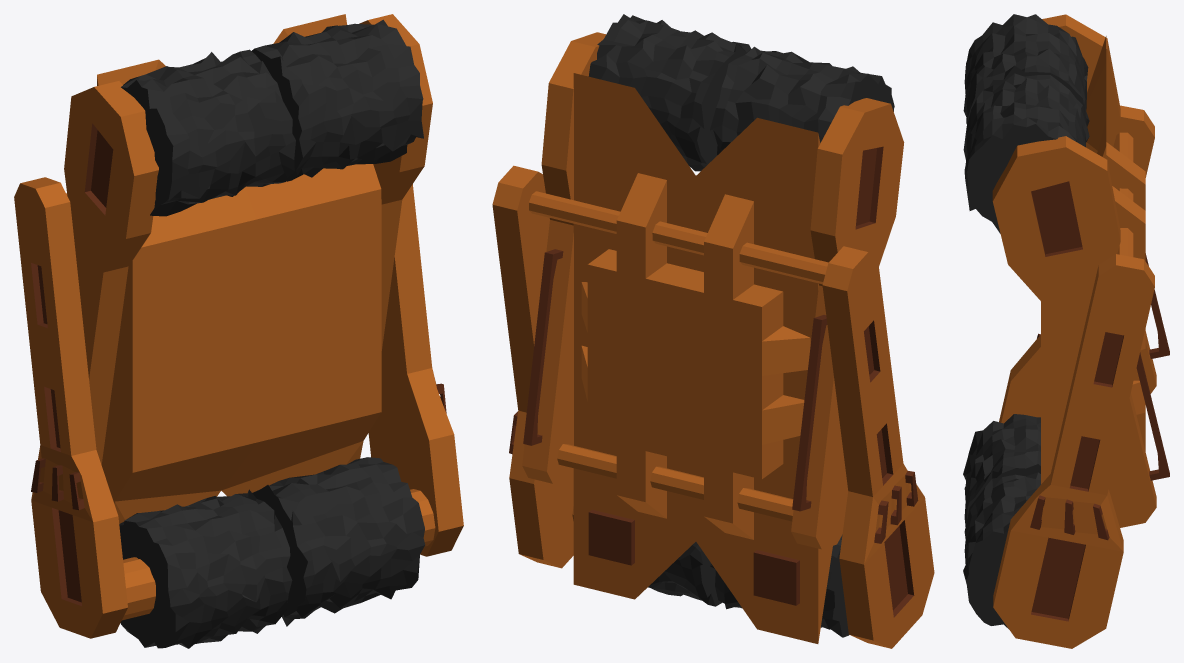
Rendered from TankBody.fbx.
The picture shows the model from 3 angles, left to right: view 1: azimuth 30°, elevation 25°; view 2: azimuth 150°, elevation 25°; view 3: azimuth 270°, elevation 25°; orthographic projection. The views are drawn at different scales.
Visible parts, largest first — view 1: Cube.003; view 2: Cube.003; view 3: Cube.003.
Part boxes in pixels (x1=…): Cube.003: x1=14, y1=14, x2=463, y2=648; Cube.003: x1=492, y1=14, x2=934, y2=648; Cube.003: x1=963, y1=14, x2=1169, y2=648.
Size of the model in its own units: 6.09 by 8.83 by 3.16.
